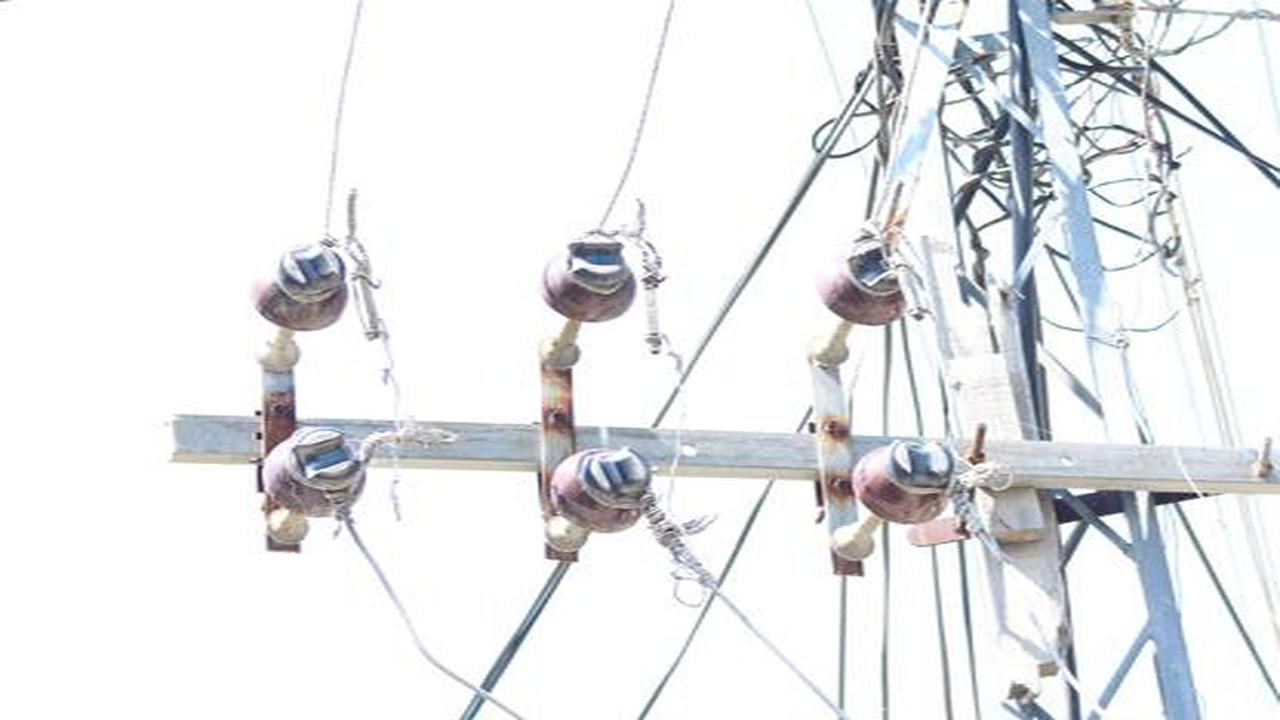insulator_pin: (534, 225, 641, 331), (541, 443, 654, 539), (257, 426, 370, 520), (846, 432, 955, 523), (248, 240, 354, 333), (815, 235, 912, 332)
